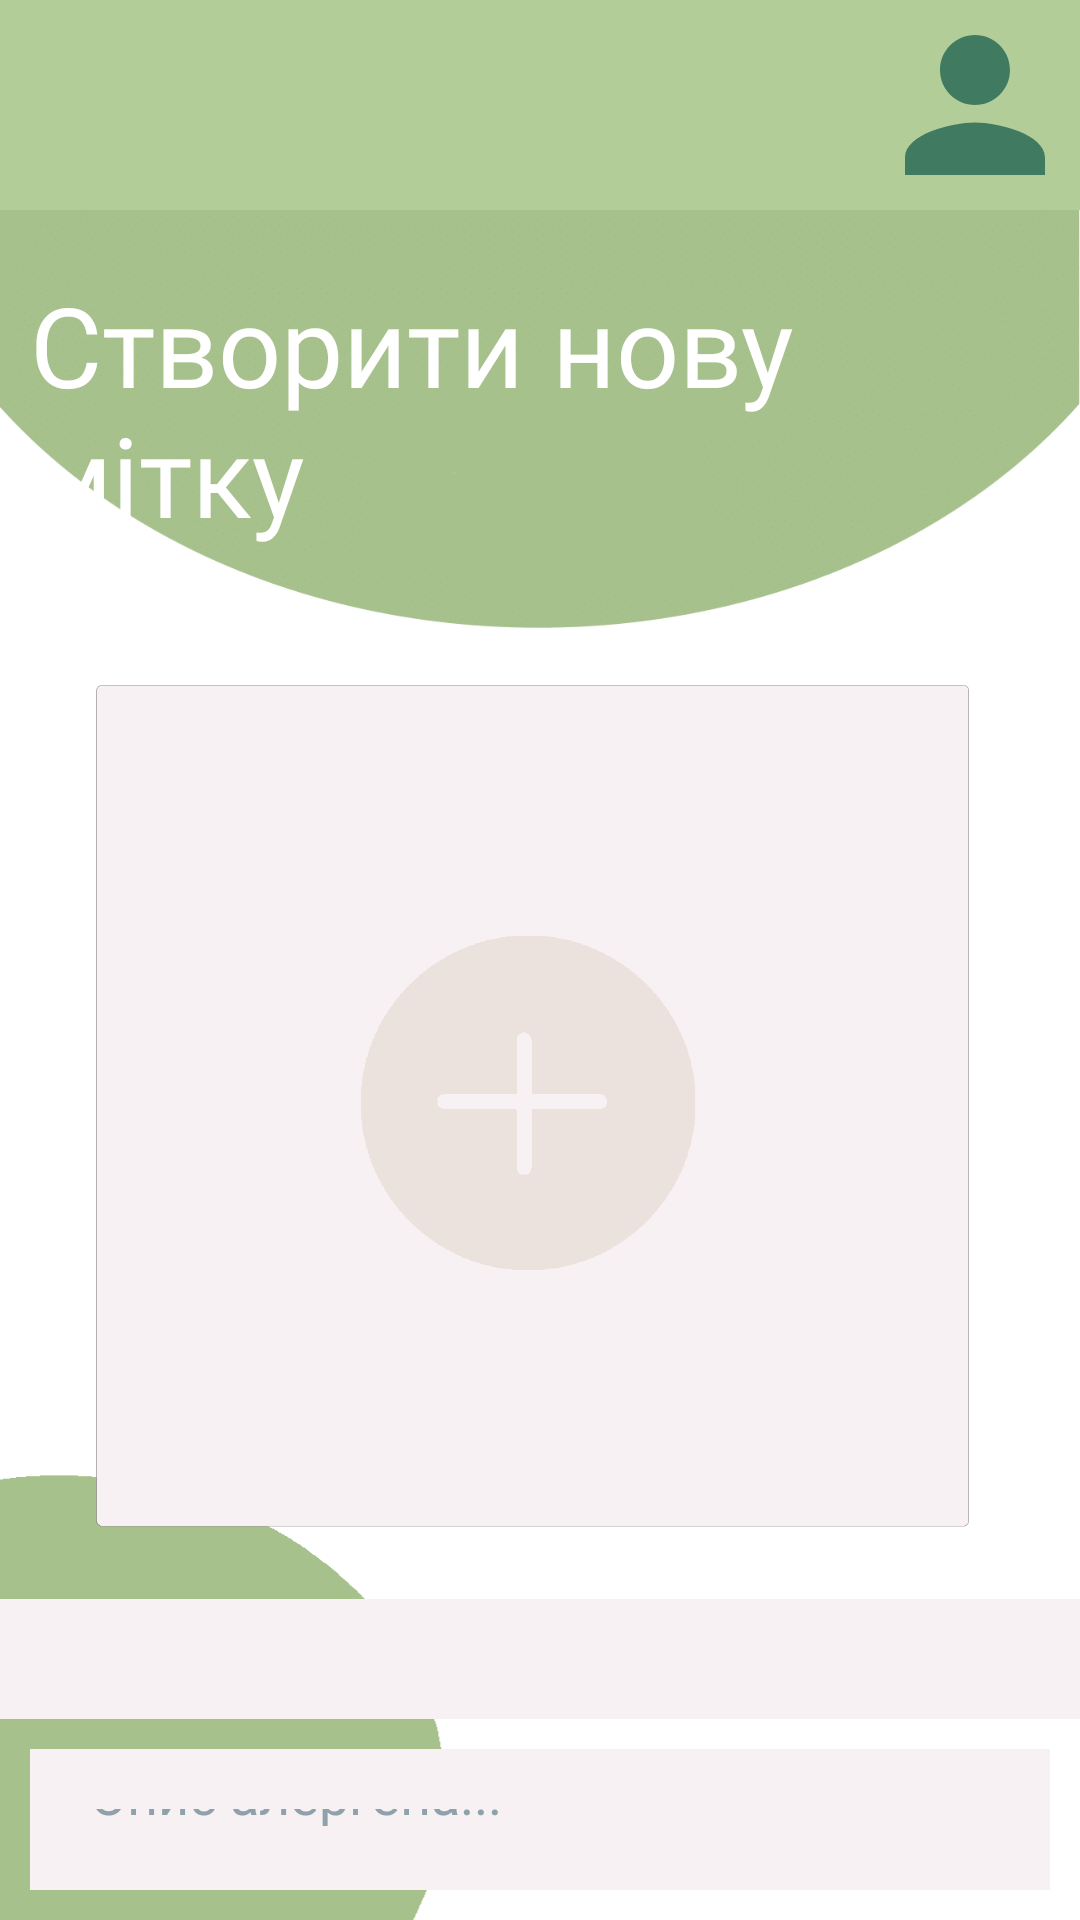

Named icons in this screenshot (1080w x 1920h) and their bounding boxes, box=[x1, y1, x2, y2]:
person: box=[905, 35, 1045, 175]
